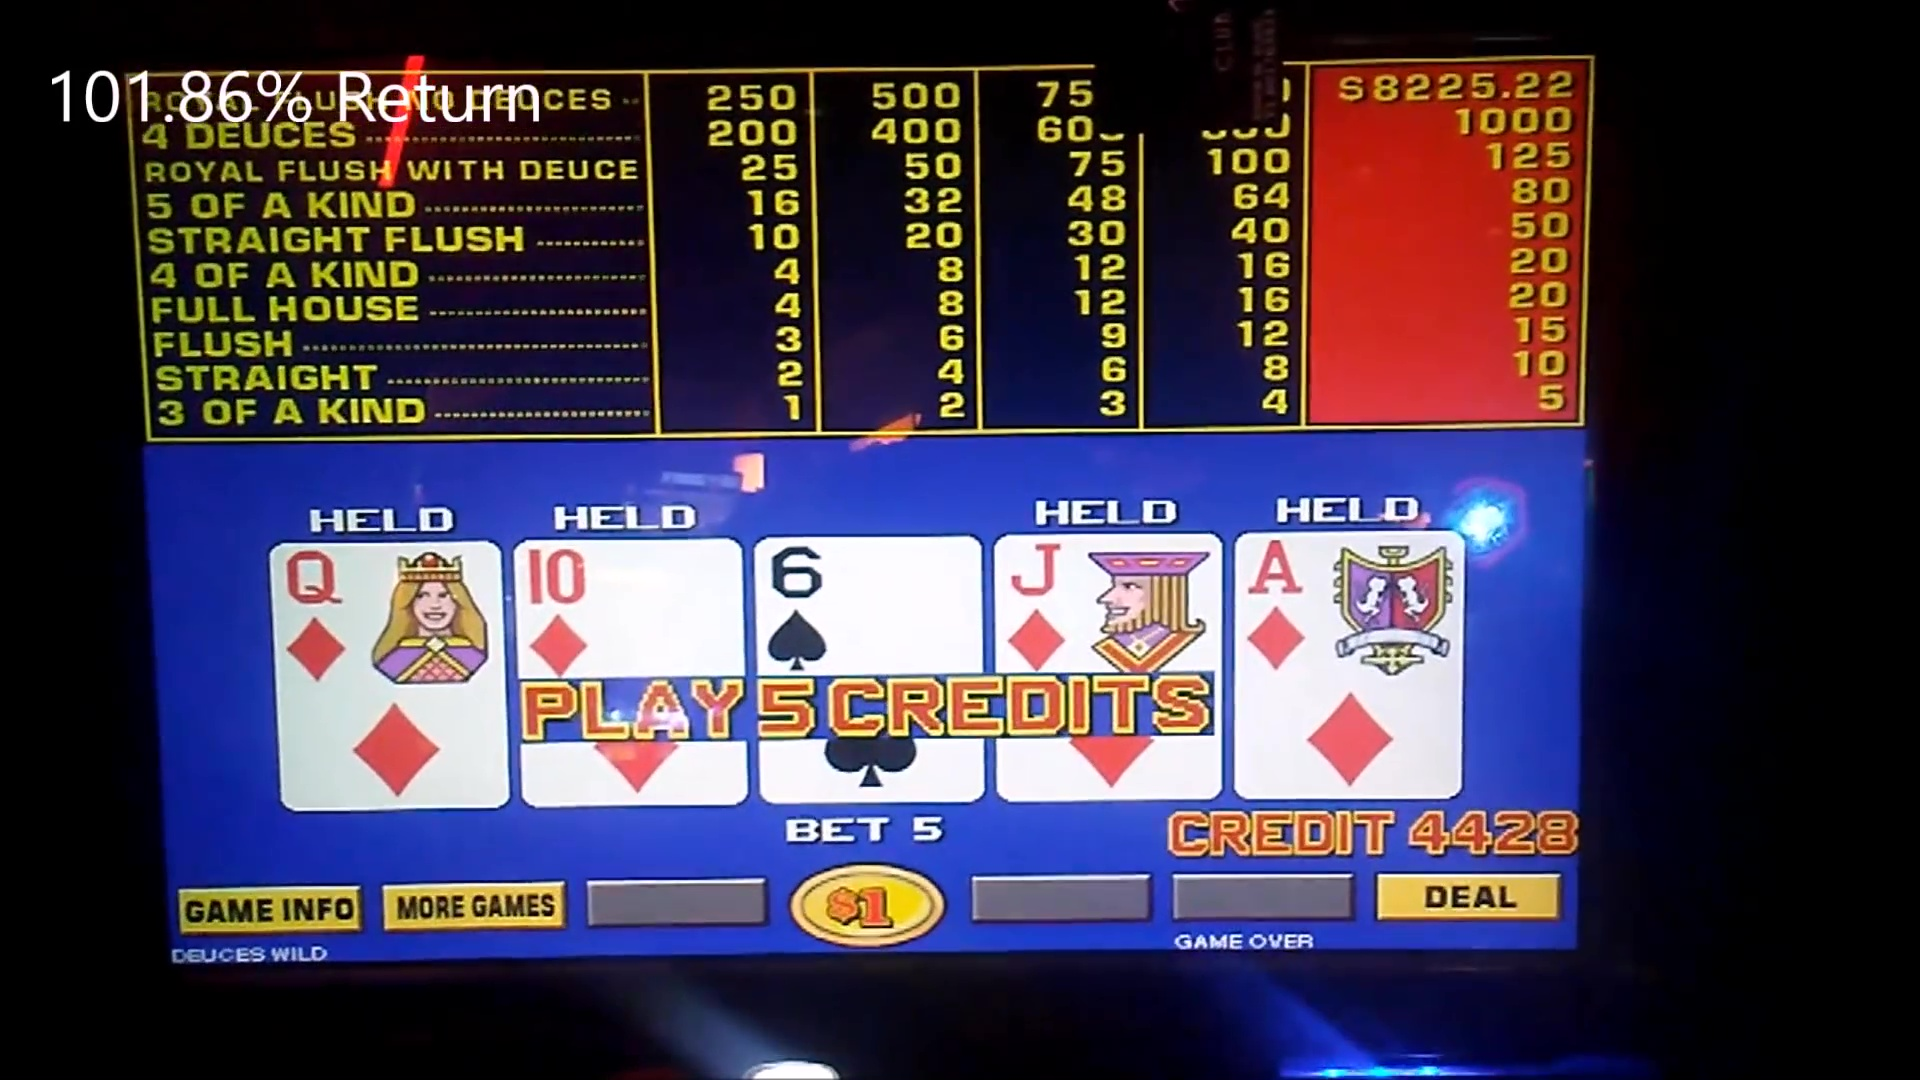DA: (1236, 529, 1462, 670)
DJ: (993, 535, 1222, 667)
DQ: (272, 545, 500, 684)
DT: (516, 541, 737, 671)
S6: (758, 541, 977, 670)
